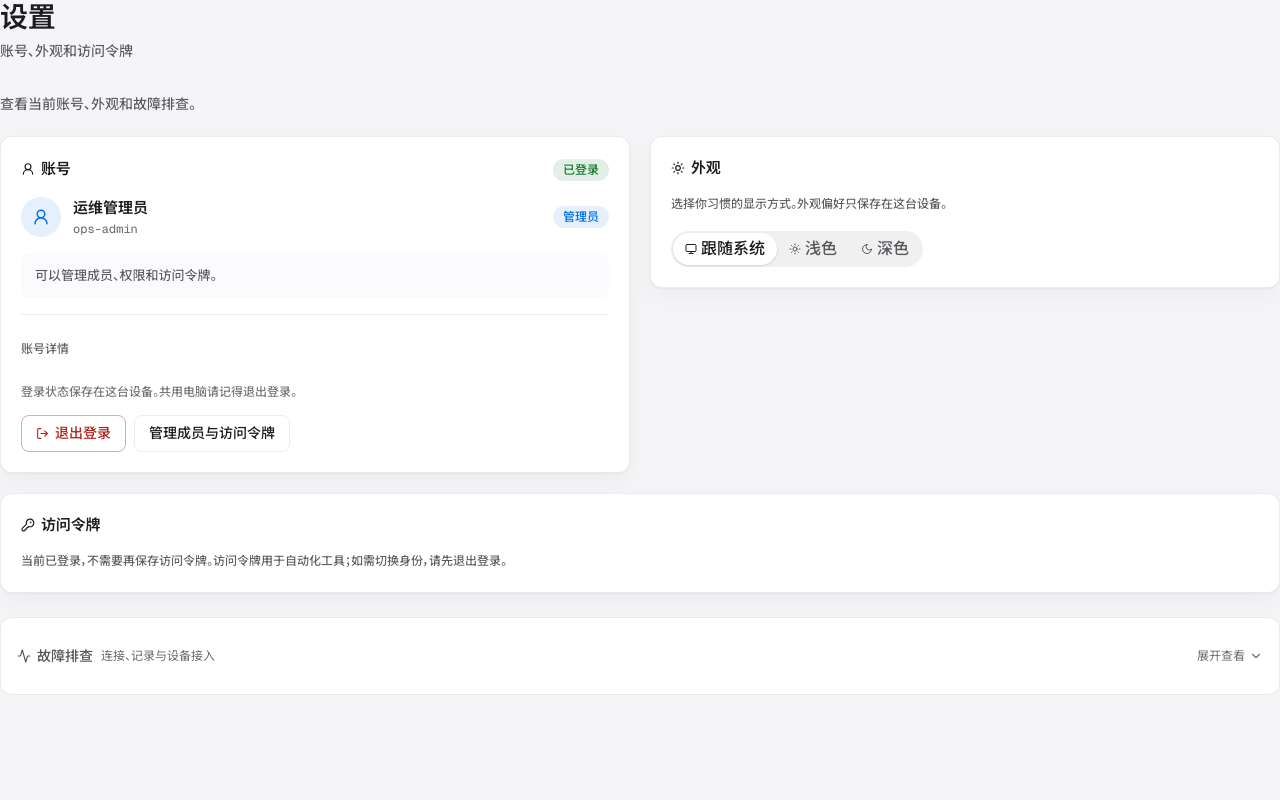
Test case: Settings 账号与令牌面板 › 已登录：显示用户名/角色/组织，鉴权标注为账号鉴权
Expected: the text "查看当前账号、外观和故障排查。" is shown, [0,95,196,113]
Expected: the text "ops-admin" is shown, [73,221,138,237]
Click the heading "故障排查 连接、记录与设备接入 展开查看": (65, 656) [17,647,1263,665]
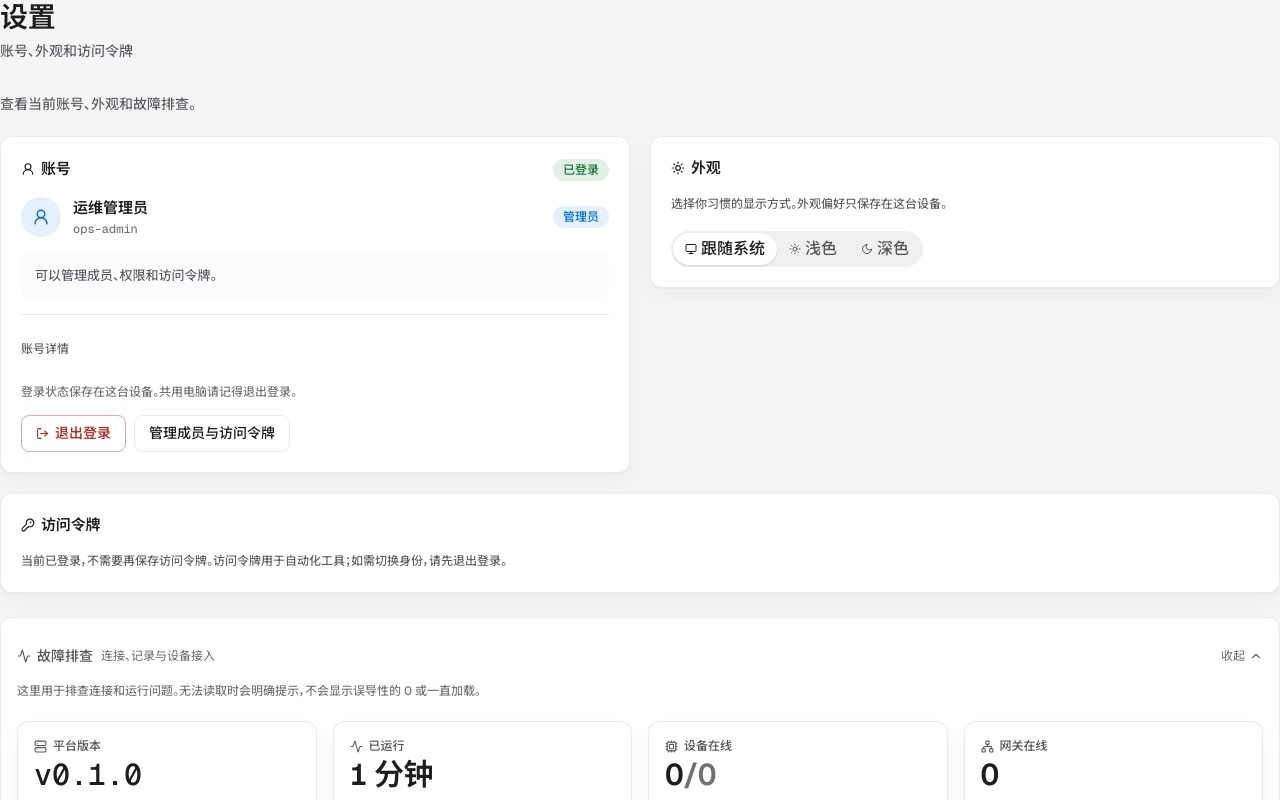
Expected: the button "退出登录" is shown, [21,415,126,452]
Expected: the heading "故障排查 连接、记录与设备接入 收起" is shown, [17,647,1263,665]
